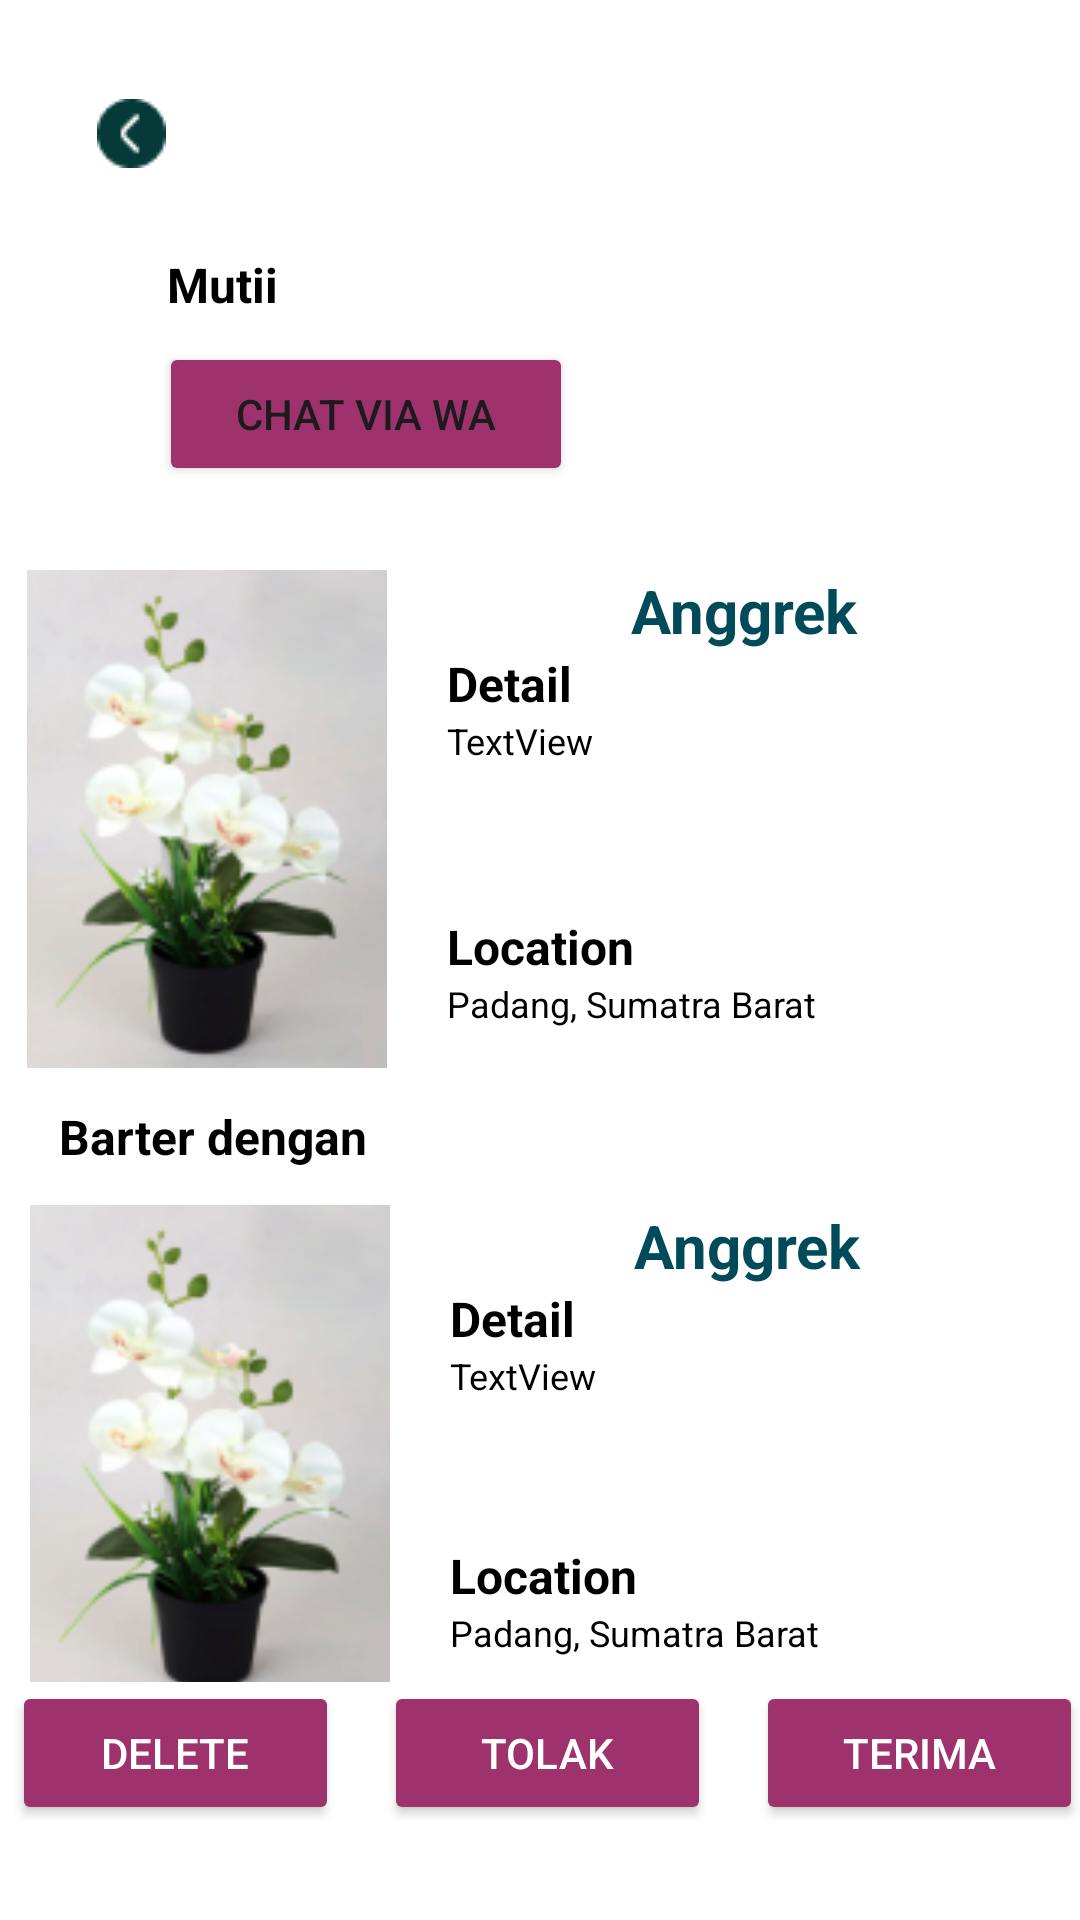

Named icons in this screenshot (1080*1920) and their bounding boxes, (x1, y1, x2, y2):
back: (97, 99, 166, 168)
